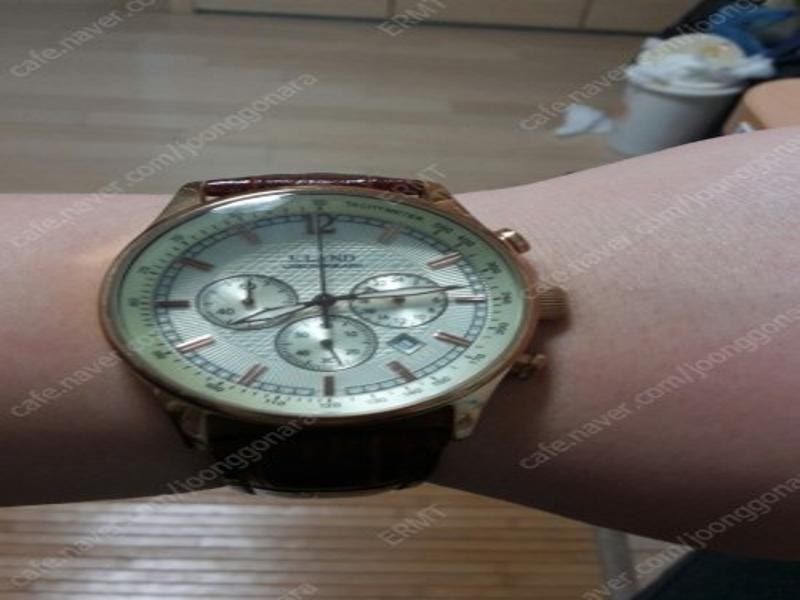watch: (89, 170, 573, 500)
